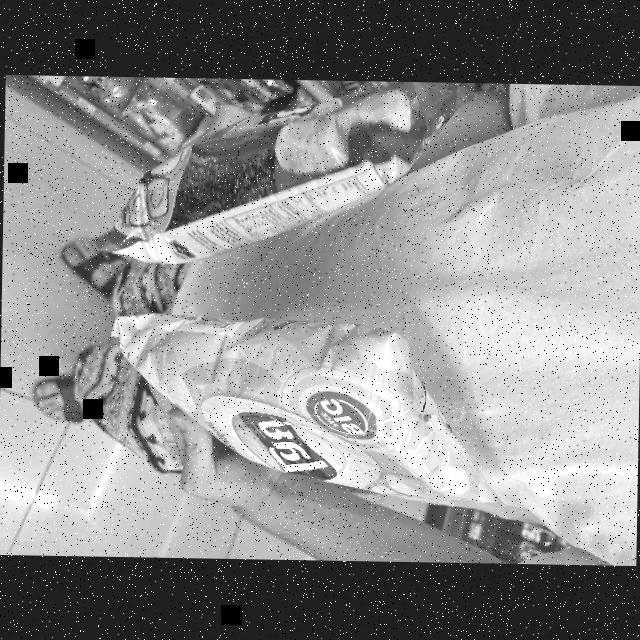snack_bag: (106, 298, 514, 522), (90, 76, 470, 275)
